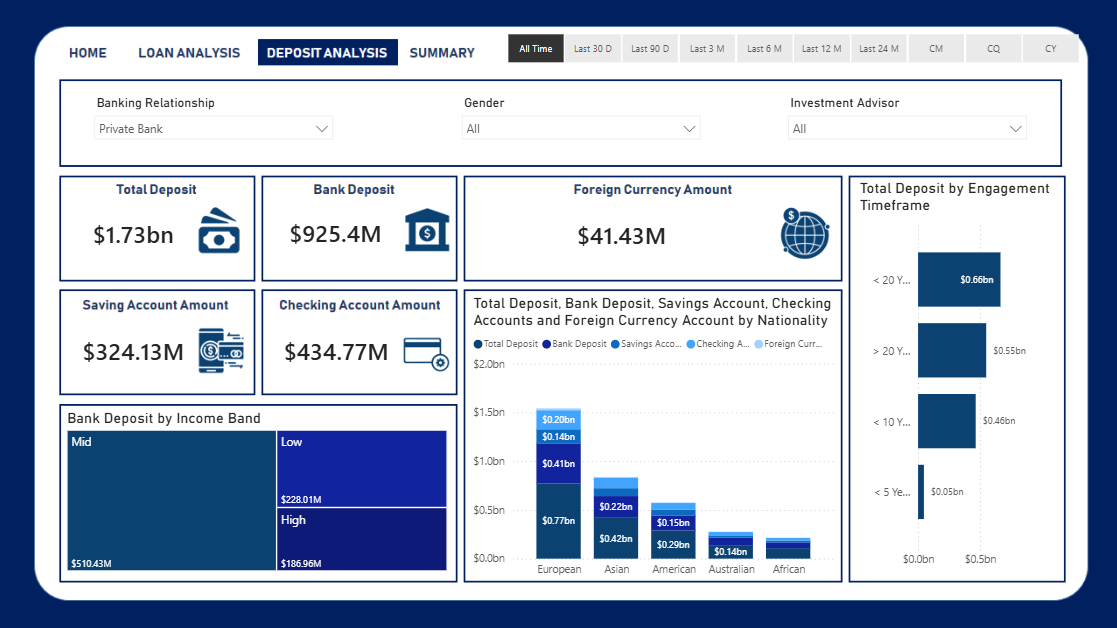

The dashboard page shown, as its layout file describes it:
{"tool":"powerbi","page":{"name":"Deposit Analysis","canvas":[1280,720],"ordinal":2},"visuals":[{"type":"card","fields":{"Values":["DAX Measures.Total Deposit"]},"box":[72.7,226.3,161.8,90.3],"z":0},{"type":"card","fields":{"Values":["DAX Measures.Bank Deposit"]},"box":[299,226.3,172.4,89.1],"z":1000},{"type":"card","fields":{"Values":["DAX Measures.Savings Account"]},"box":[72.7,360,161.8,89.1],"z":2000},{"type":"card","fields":{"Values":["DAX Measures.Checking Accounts"]},"box":[300.2,360,171.2,89.1],"z":3000},{"type":"slicer","fields":{"Values":["Banking Relationship.Banking Relationship"]},"box":[98.5,105.2,292.9,75.7],"z":4000},{"type":"slicer","fields":{"Values":["Gender.Gender"]},"box":[518.9,105.2,292.9,75.7],"z":5000},{"type":"slicer","fields":{"Values":["Investment Advisor.Investment Advisor"]},"box":[891.3,105.2,292.9,75.7],"z":6000},{"type":"card","fields":{"Values":["DAX Measures.Foreign Currency Account"]},"box":[537.1,227.5,349.4,89.1],"z":7000},{"type":"treemap","fields":{"Group":["Clients - Banking.Income Band"],"Values":["DAX Measures.Bank Deposit"]},"box":[72.7,470.2,444.4,190],"z":8000},{"type":"columnChart","fields":{"Category":["Clients - Banking.Nationality"],"Y":["DAX Measures.Total Deposit","DAX Measures.Bank Deposit","DAX Measures.Savings Account","DAX Measures.Checking Accounts","DAX Measures.Foreign Currency Account"]},"box":[537.1,338.9,423.3,331.9],"z":9000},{"type":"clusteredBarChart","fields":{"Category":["Clients - Banking.Engagement Timeframe"],"Y":["DAX Measures.Total Deposit"]},"box":[978,207.6,234.5,452.6],"z":10000},{"type":"slicer","fields":{"Values":["Period.Name"]},"box":[555.2,34.6,702.1,46.6],"z":11000},{"type":"actionButton","box":[72.8,44.2,58.5,31],"z":12000},{"type":"actionButton","box":[160,44.2,119.4,31],"z":13000},{"type":"actionButton","box":[471.6,44.2,83.6,31],"z":14000}]}

Visuals, with their boxes in screenshot pixels (x1, y1, x2, y2), scaled from the page's 1280x720 canvas onto the 1117x628 screenshot:
card - DAX Measures.Total Deposit: x1=63, y1=197, x2=205, y2=276
card - DAX Measures.Bank Deposit: x1=261, y1=197, x2=411, y2=275
card - DAX Measures.Savings Account: x1=63, y1=314, x2=205, y2=392
card - DAX Measures.Checking Accounts: x1=262, y1=314, x2=411, y2=392
slicer - Banking Relationship.Banking Relationship: x1=86, y1=92, x2=342, y2=158
slicer - Gender.Gender: x1=453, y1=92, x2=708, y2=158
slicer - Investment Advisor.Investment Advisor: x1=778, y1=92, x2=1033, y2=158
card - DAX Measures.Foreign Currency Account: x1=469, y1=198, x2=774, y2=276
treemap - Clients - Banking.Income Band x DAX Measures.Bank Deposit: x1=63, y1=410, x2=451, y2=576
columnChart - Clients - Banking.Nationality x DAX Measures.Total Deposit: x1=469, y1=296, x2=838, y2=585
clusteredBarChart - Clients - Banking.Engagement Timeframe x DAX Measures.Total Deposit: x1=853, y1=181, x2=1058, y2=576
slicer - Period.Name: x1=484, y1=30, x2=1097, y2=71
actionButton: x1=64, y1=39, x2=115, y2=66
actionButton: x1=140, y1=39, x2=244, y2=66
actionButton: x1=412, y1=39, x2=484, y2=66
